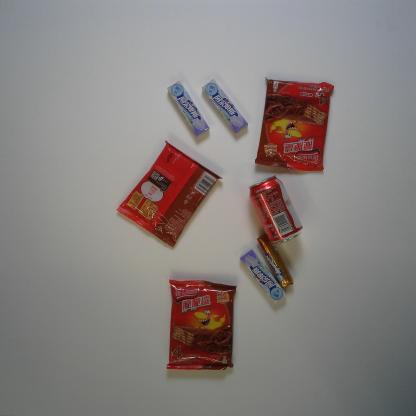Candy: (201, 78, 249, 134), (239, 248, 287, 304), (167, 80, 210, 137), (257, 234, 294, 289)
Dessert: (116, 138, 222, 248), (254, 76, 335, 174), (165, 278, 240, 372)
Drink: (248, 174, 303, 245)
